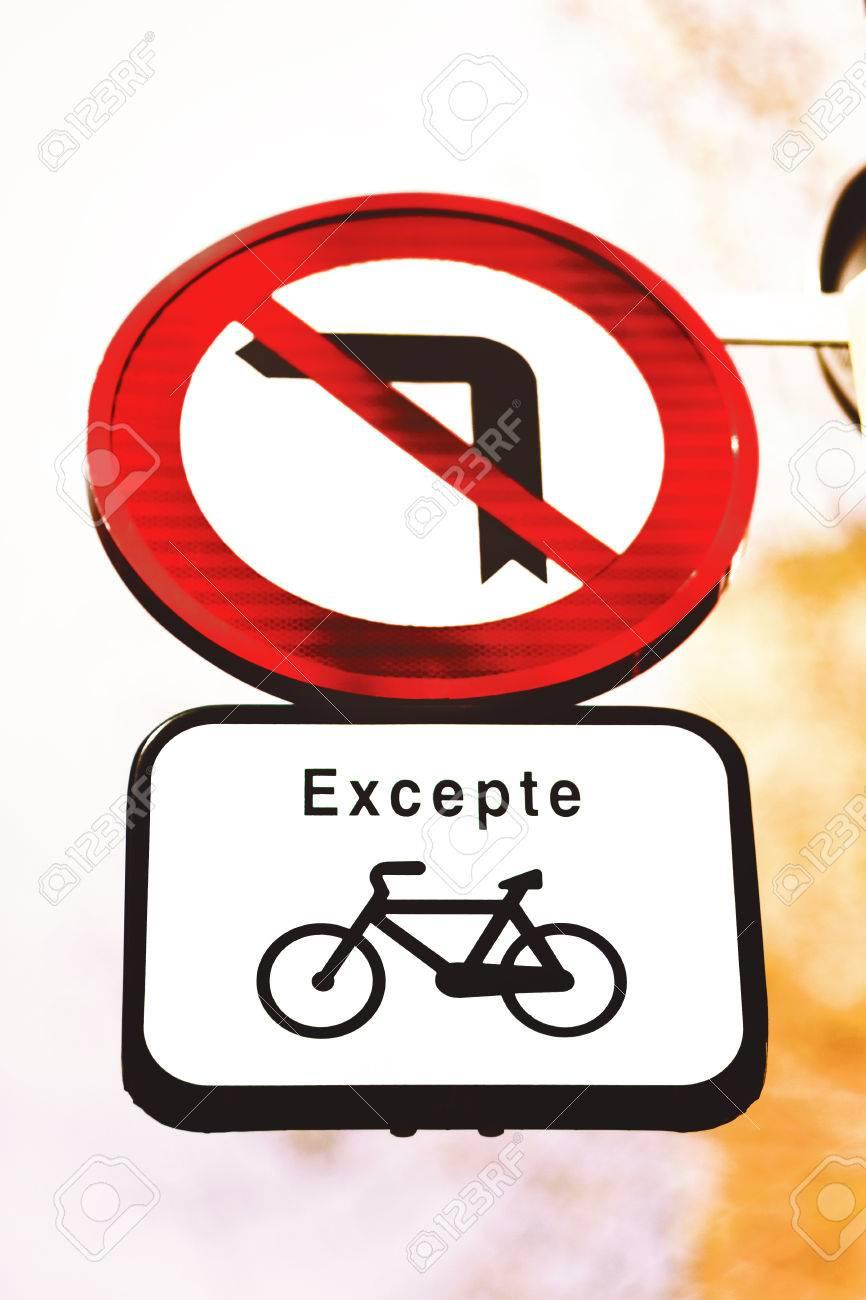no_left_turn: (85, 190, 760, 698)
